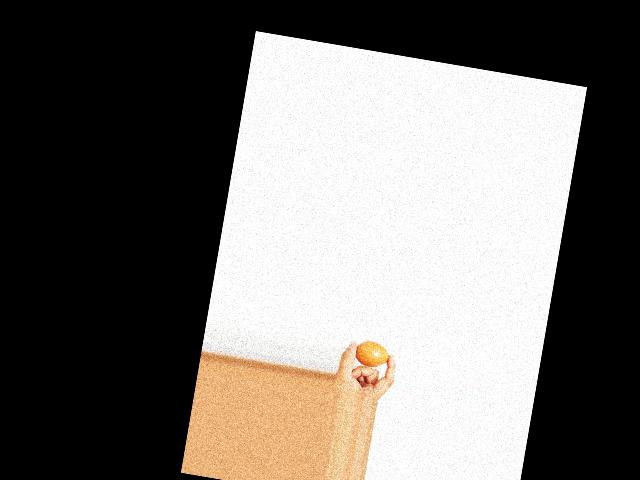egg: (353, 338, 391, 369)
